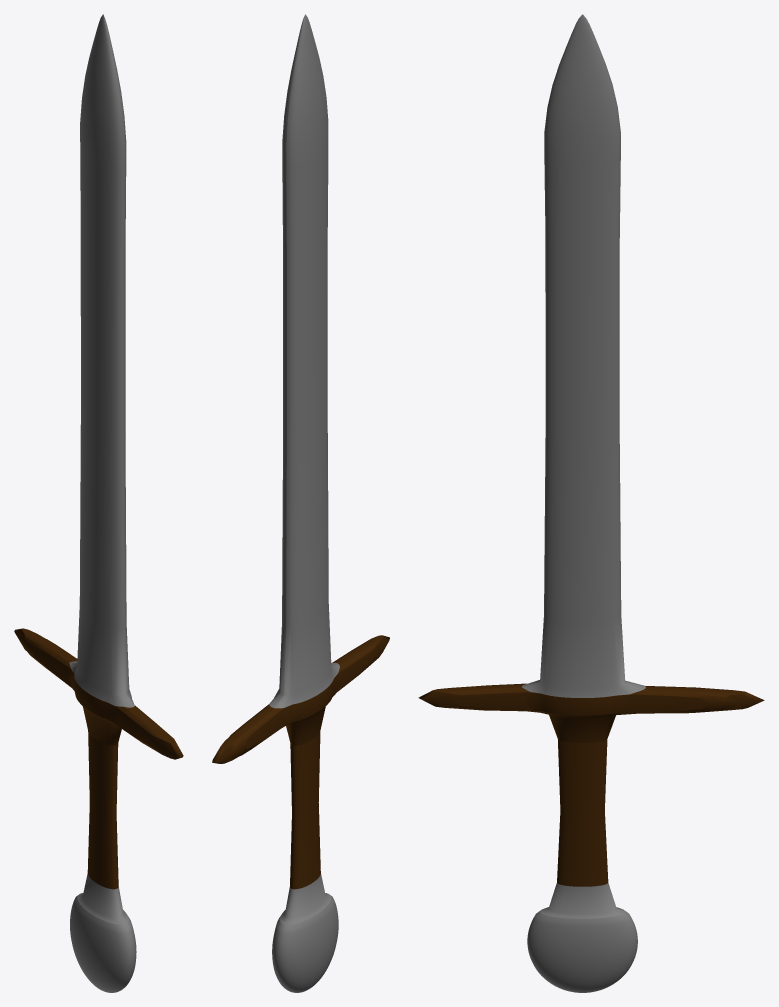
The model's file is sword.fbx.
The picture shows the model from 3 angles, left to right: view 1: azimuth 30°, elevation 25°; view 2: azimuth 150°, elevation 25°; view 3: azimuth 270°, elevation 25°; orthographic projection.
Parts seen in each view (by area): view 1: pSphere1; view 2: pSphere1; view 3: pSphere1.
Boxes of the visible parts, x1,y1,x2,y2 form: pSphere1: (14, 14, 183, 992); pSphere1: (212, 14, 389, 992); pSphere1: (418, 14, 764, 992).
Size of the model in its own units: 12.64 by 314 by 101.
